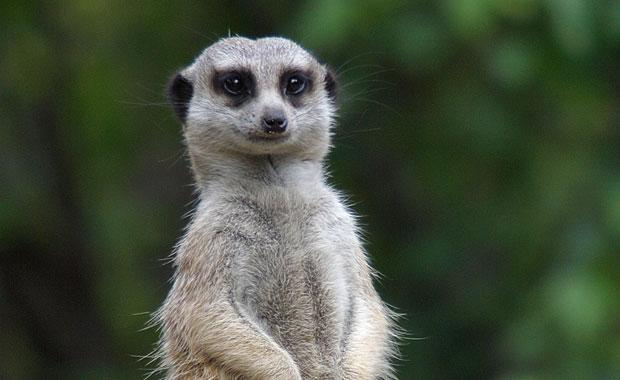meerkat: (143, 22, 465, 380)
